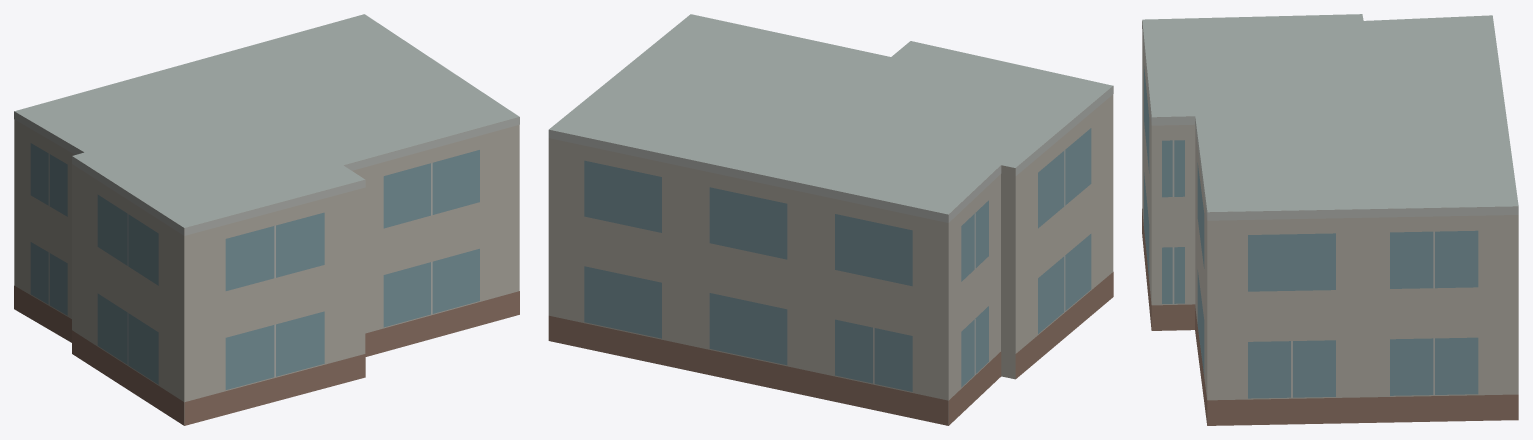
File: survey-upis-32664591.glb
3 renders of one model, left to right at view 1: azimuth 30°, elevation 25°; view 2: azimuth 150°, elevation 25°; view 3: azimuth 270°, elevation 25°, orthographic. The views are drawn at different scales.
Parts seen in each view (by area): view 1: survey-upis-32664591.tmp; view 2: survey-upis-32664591.tmp; view 3: survey-upis-32664591.tmp.
Boxes of the visible parts, left/top/right/bottom form: survey-upis-32664591.tmp: left=14, top=14, right=519, bottom=425; survey-upis-32664591.tmp: left=548, top=14, right=1113, bottom=425; survey-upis-32664591.tmp: left=1142, top=14, right=1518, bottom=425.
Bounding box in the file's own units: 12.14 × 6.1 × 9.75.
